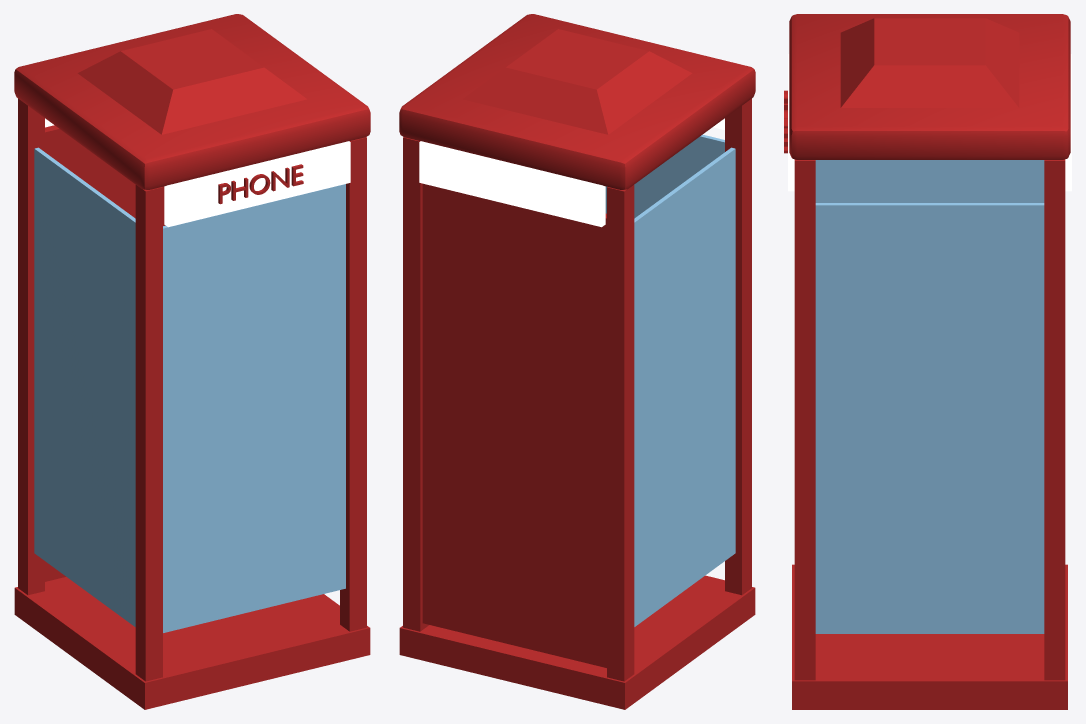
The model's file is streets_phonebooth.glb.
3 views of the same model, side by side, from view 1: azimuth 30°, elevation 25°; view 2: azimuth 150°, elevation 25°; view 3: azimuth 270°, elevation 25° (orthographic). The views are drawn at different scales.
Parts seen in each view (by area): view 1: PhoneBooth_body; view 2: PhoneBooth_body; view 3: PhoneBooth_body.
Part boxes in pixels (box(x1,y1,x2,y2)): PhoneBooth_body: box(14, 14, 370, 709); PhoneBooth_body: box(399, 14, 755, 709); PhoneBooth_body: box(784, 14, 1071, 709).
Bounding box in the file's own units: 1.07 × 2.56 × 1.09.
